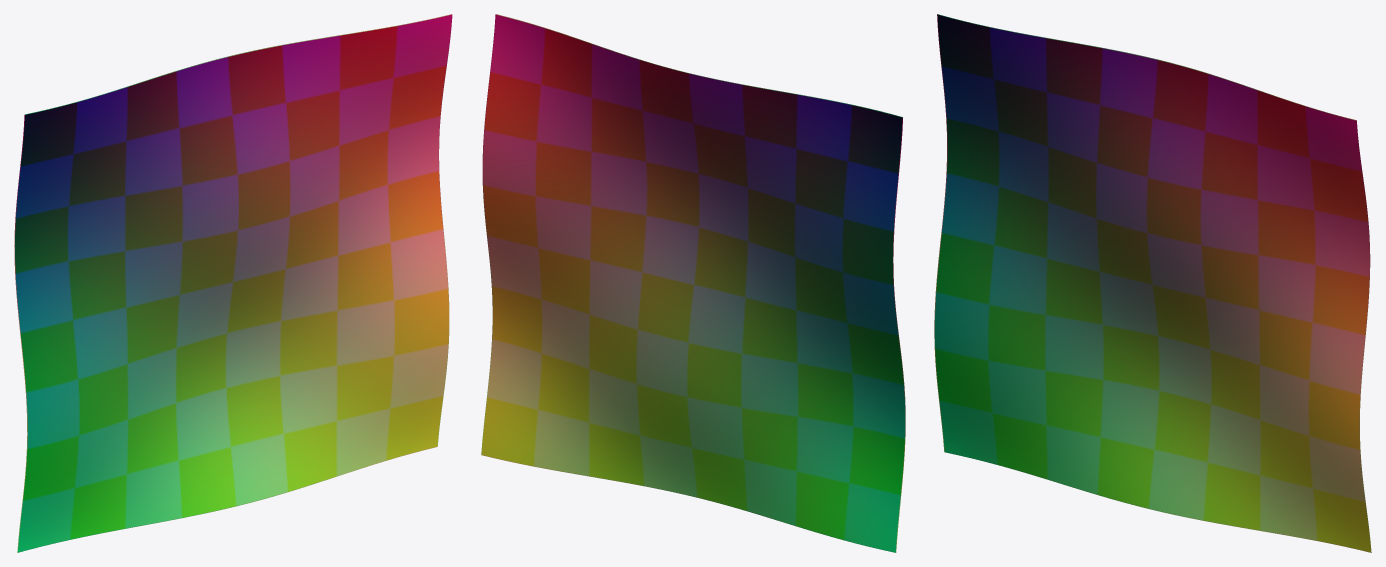
Rendered from Tile_+030_+023.obj.
The picture shows the model from 3 angles, left to right: view 1: azimuth 30°, elevation 25°; view 2: azimuth 150°, elevation 25°; view 3: azimuth 330°, elevation 25°; orthographic projection. The views are drawn at different scales.
Size of the model in its own units: 100 by 100 by 6.03.
